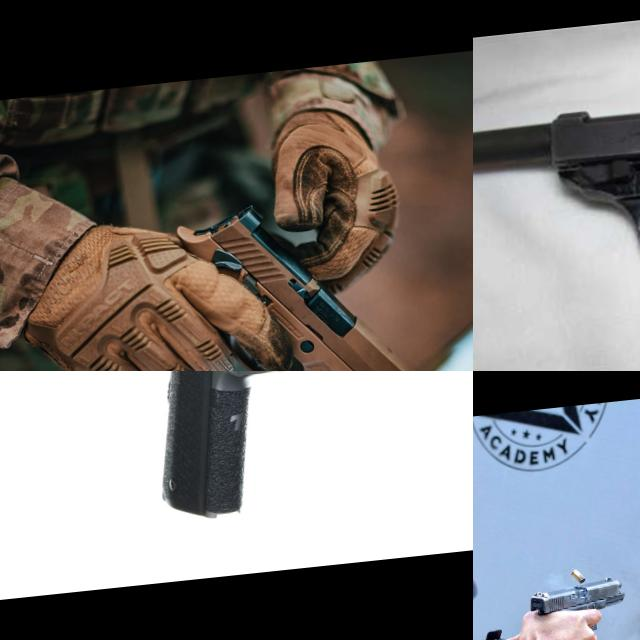handgun: (122, 371, 473, 564), (170, 181, 459, 371), (473, 57, 640, 371), (524, 574, 632, 638)
